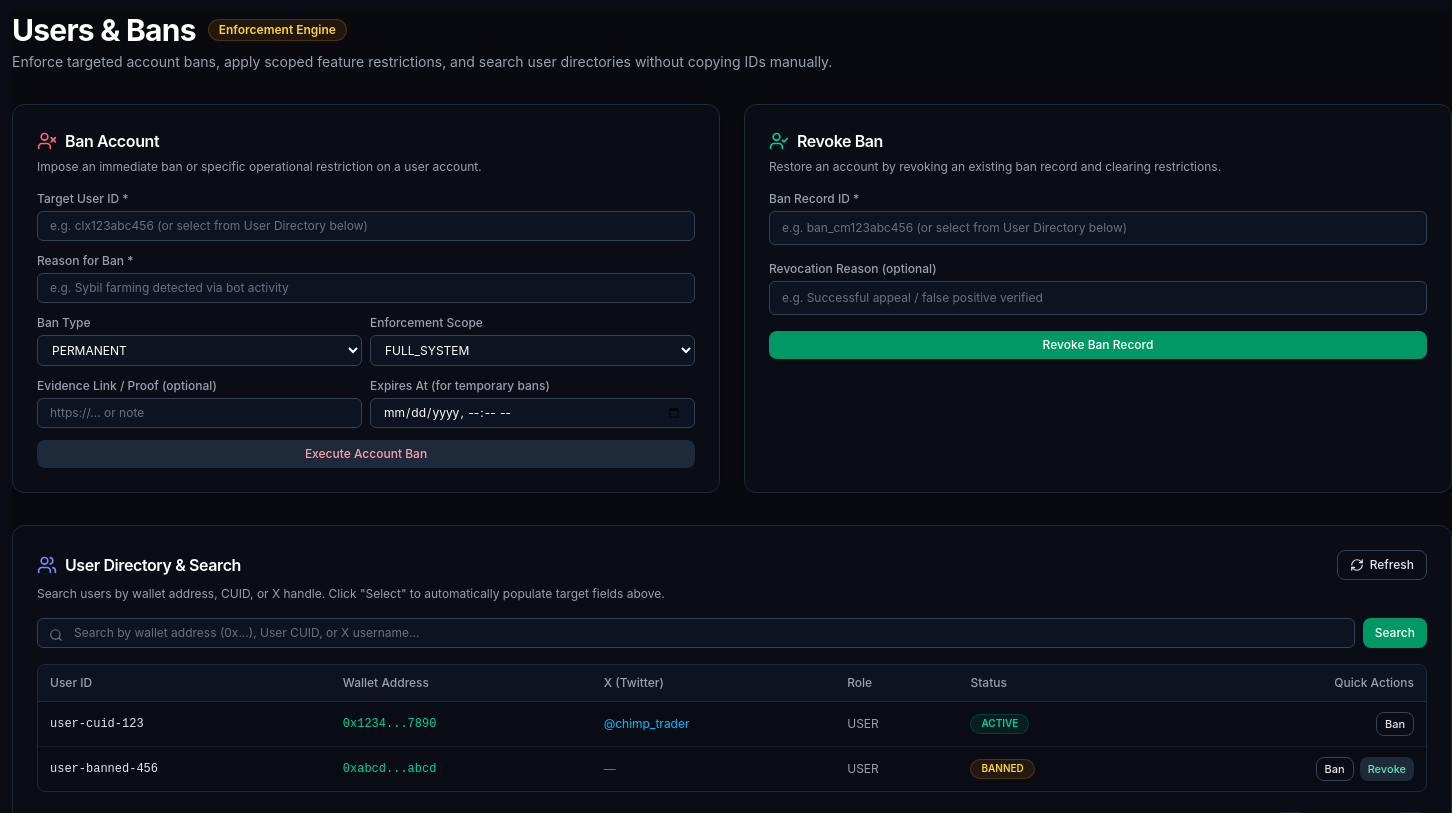
it: Local Testing - Admin Dashboard Users & Bans UI › 1. Loading, Empty State, Search, and Data Display › renders User Directory & Search and allows searching and auto-filling ban/revoke forms
Expected: the heading "User Directory & Search" is shown, [65, 553, 241, 577]
Expected: the text "user-cuid-123" is shown, [50, 717, 144, 731]
// Clicking "Ban" next to user-cuid-123 auto-populates the Target User ID field
Click the button "Ban" in the row of "user-cuid-123": point(1395, 724) [1376, 712, 1414, 736]
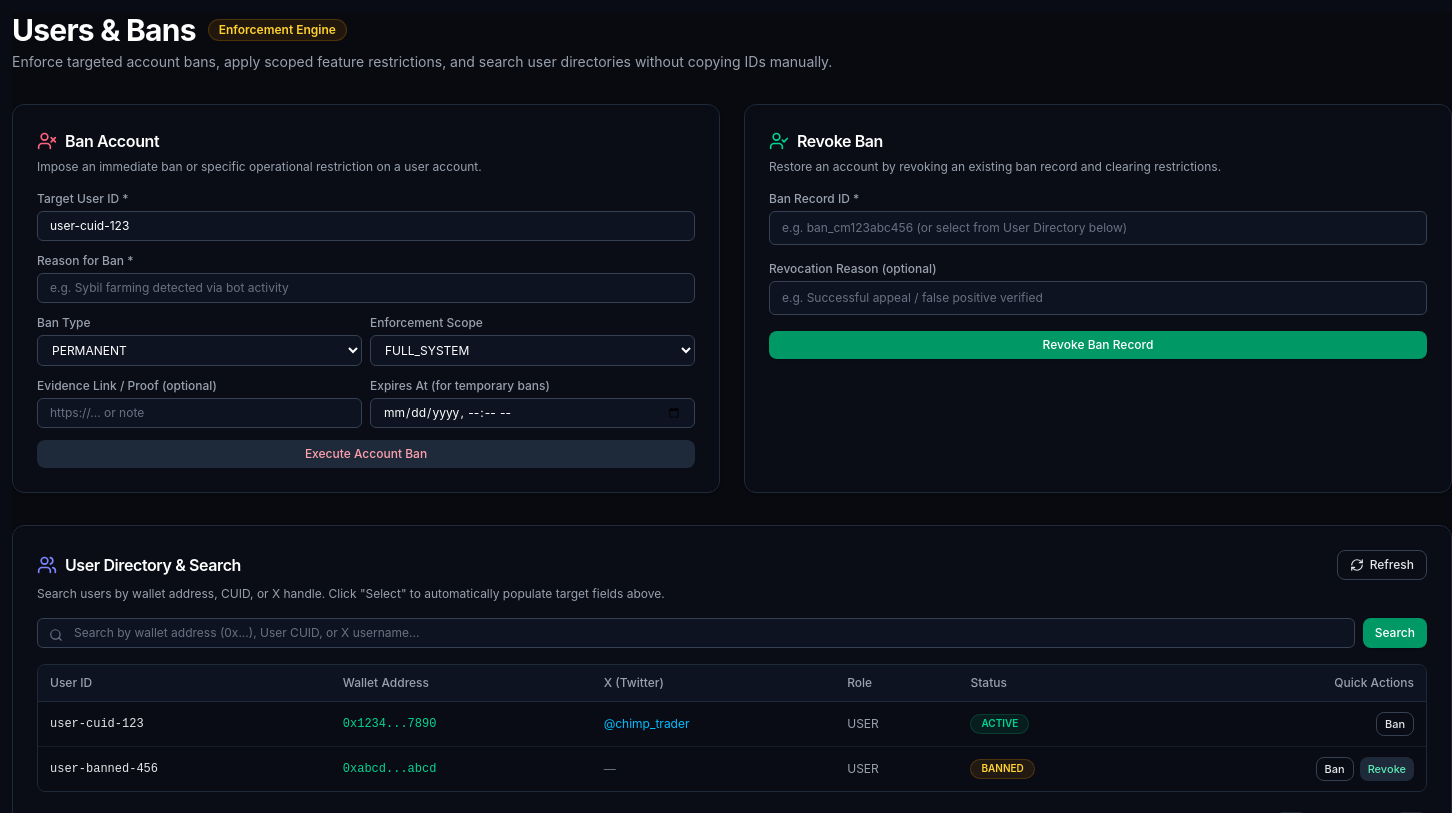
Now the field labelled "Target User ID *" holds "user-cuid-123", box [37, 211, 695, 241]
// Clicking "Revoke" next to banned user auto-populates the Ban Record ID field
Click the button "Revoke": point(1387, 769) [1360, 757, 1414, 781]
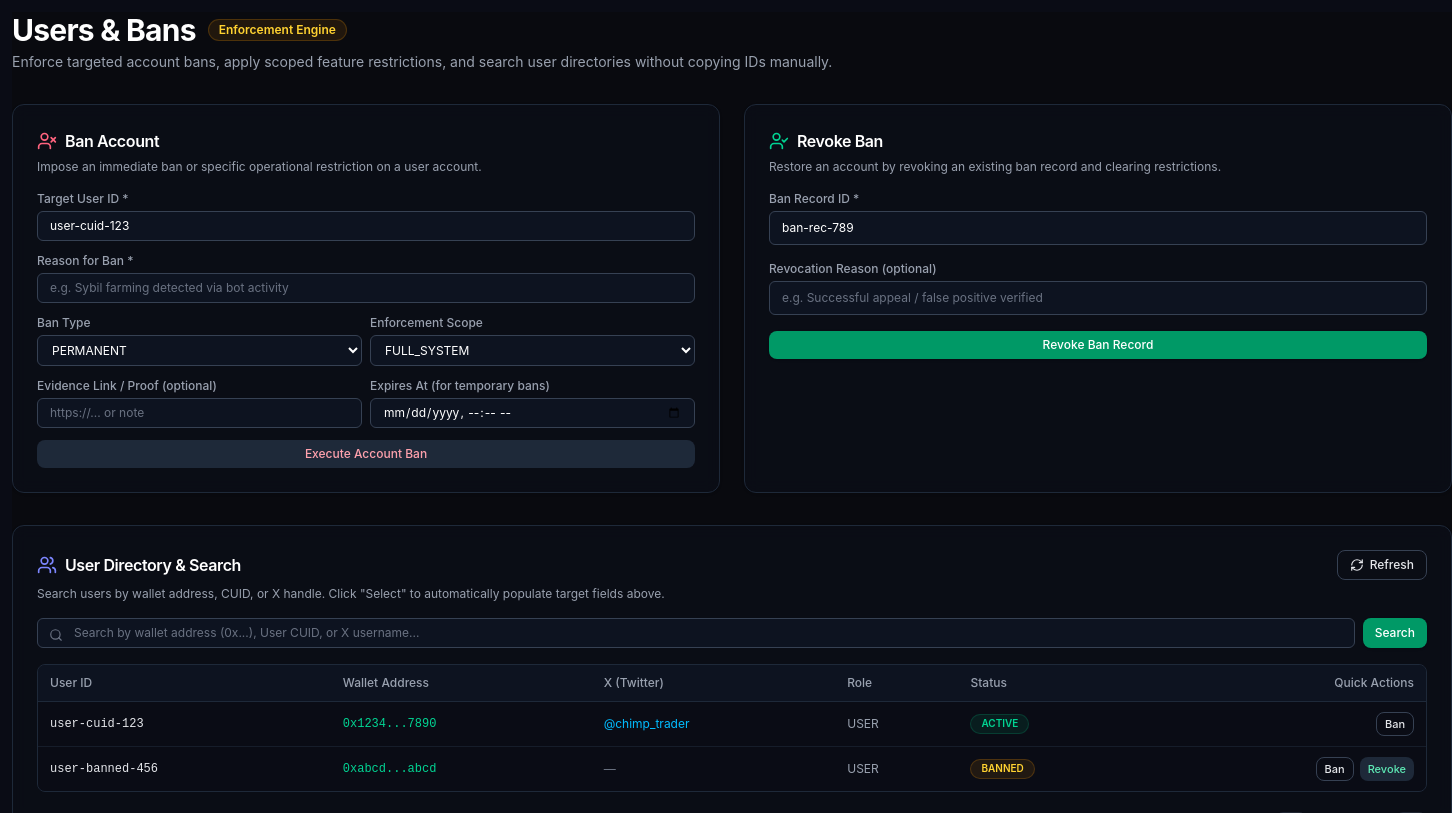
Now the field labelled "Ban Record ID *" holds "ban-rec-789", box [769, 211, 1427, 245]
